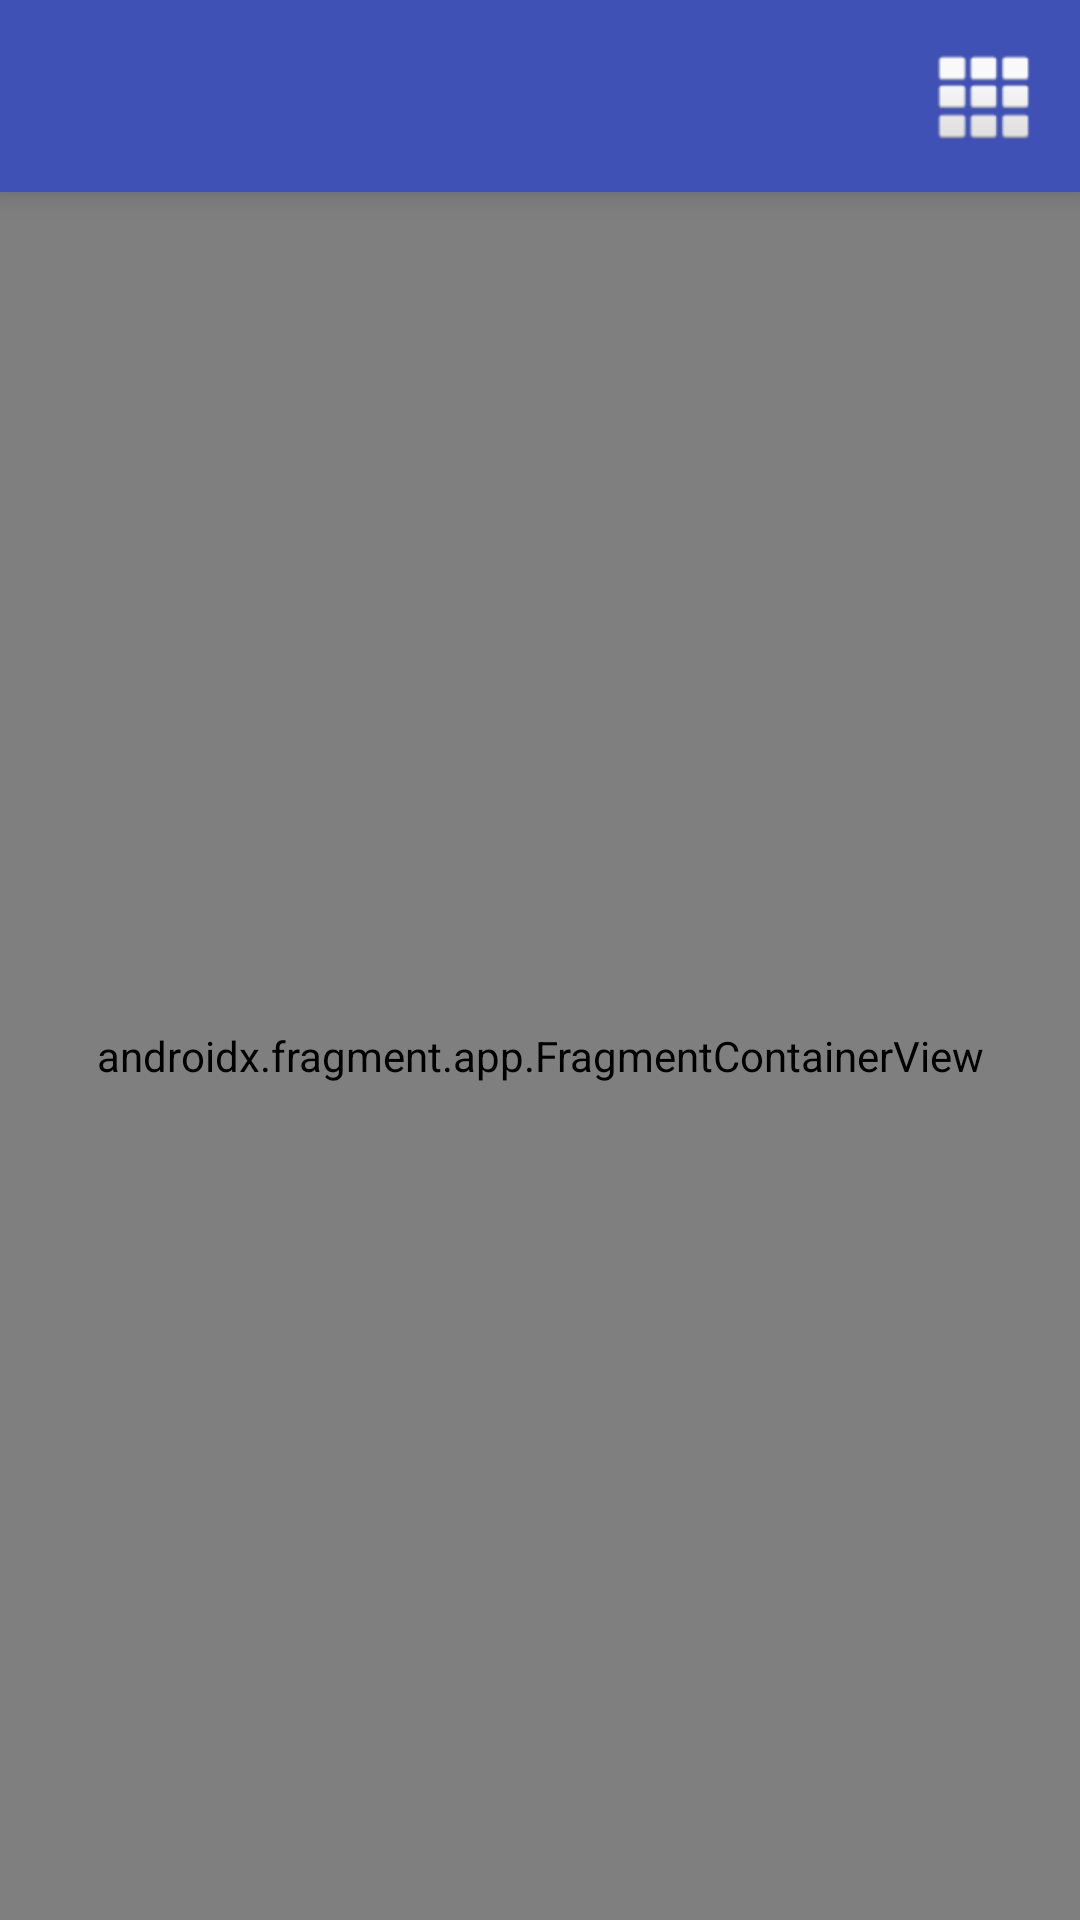

Named icons in this screenshot (1080 × 1920) and their centers, (x,y):
dialer: (983,97)
